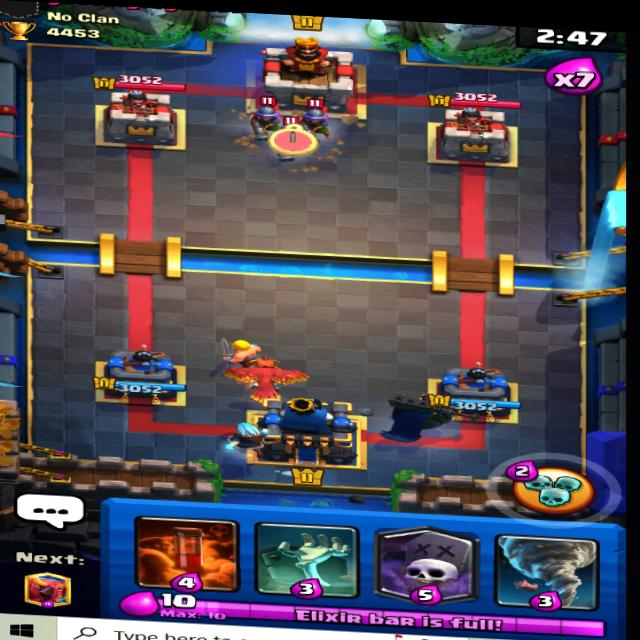musketeer: (242, 93, 296, 143), (295, 97, 344, 145), (276, 114, 308, 164)
